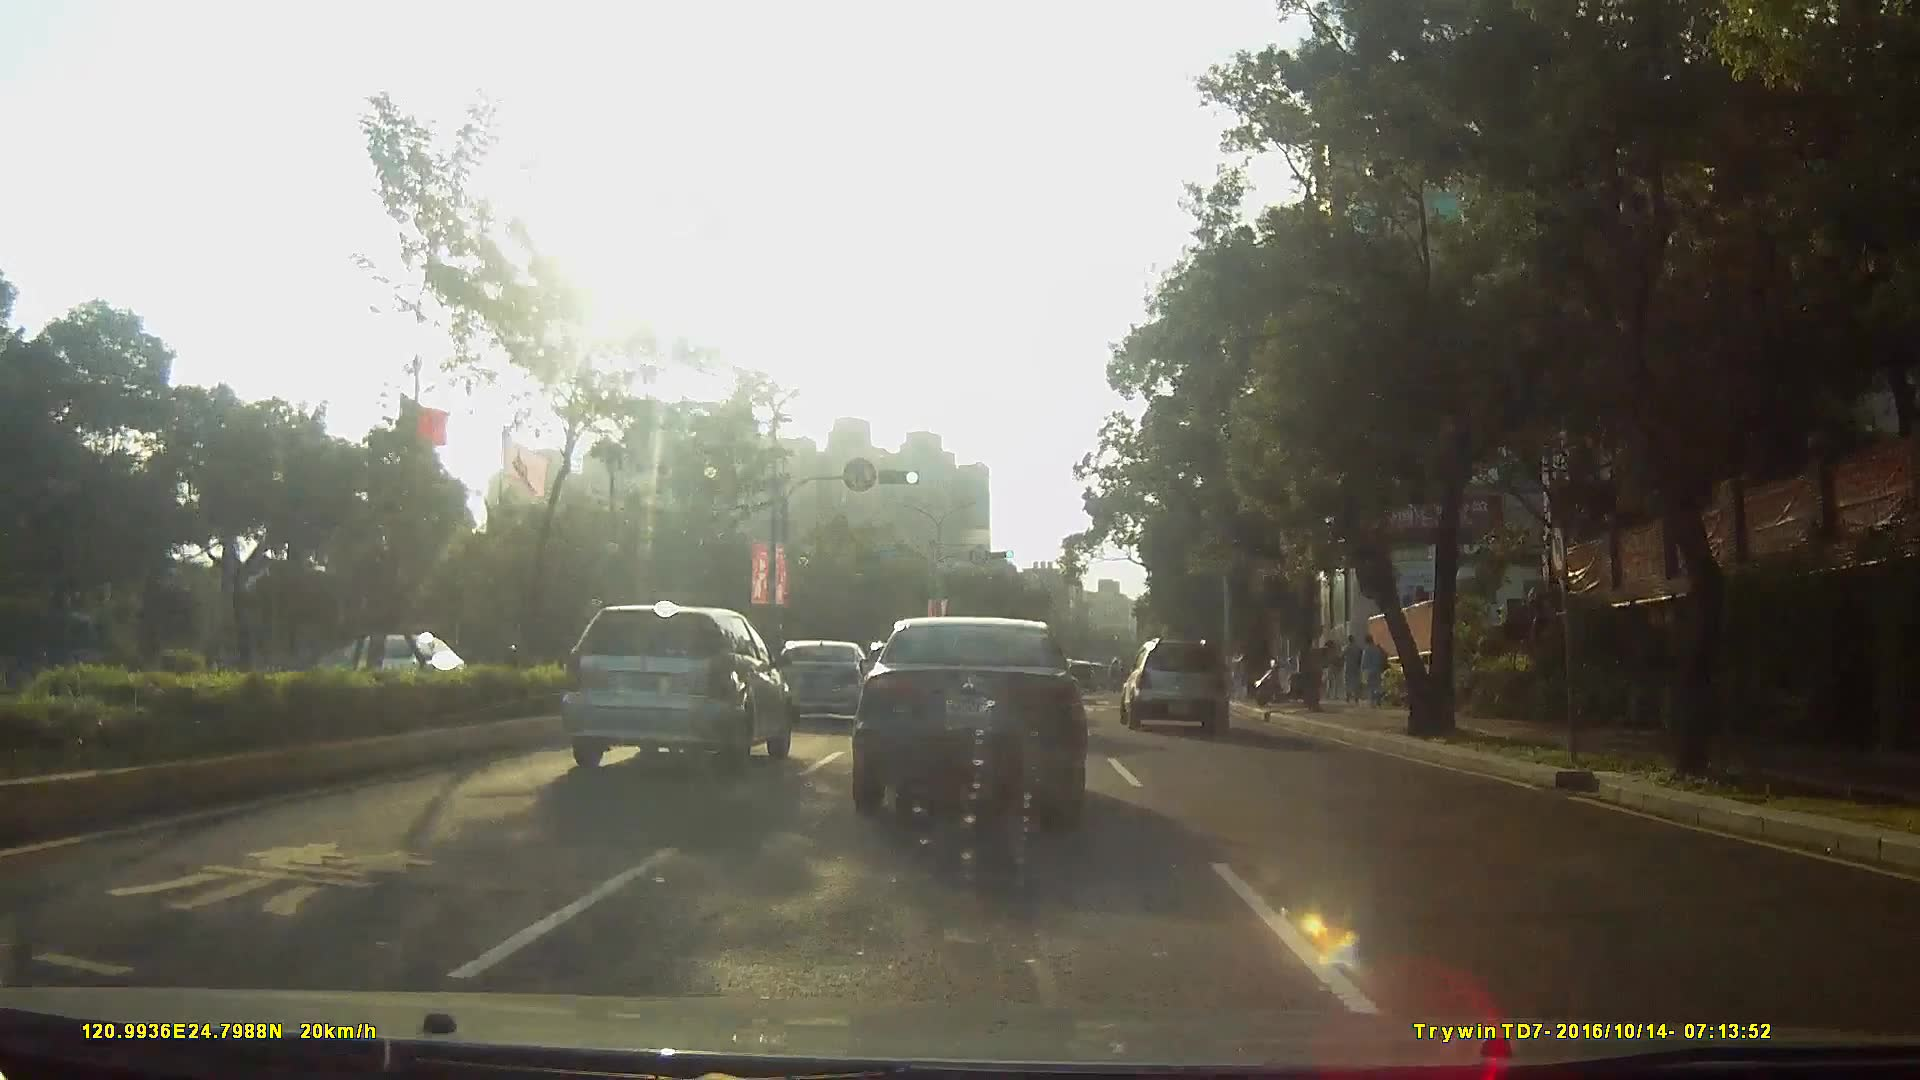pedestrian: (1359, 627, 1387, 706), (1343, 629, 1363, 707)
vehicle: (849, 601, 1086, 812), (557, 589, 791, 760), (303, 627, 468, 705), (1116, 632, 1243, 728), (778, 639, 870, 727)
